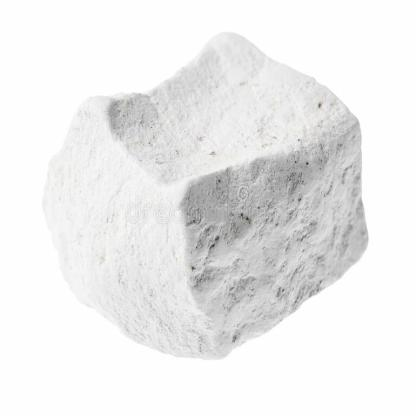Sedimentary_Limestone: (29, 21, 384, 371)
